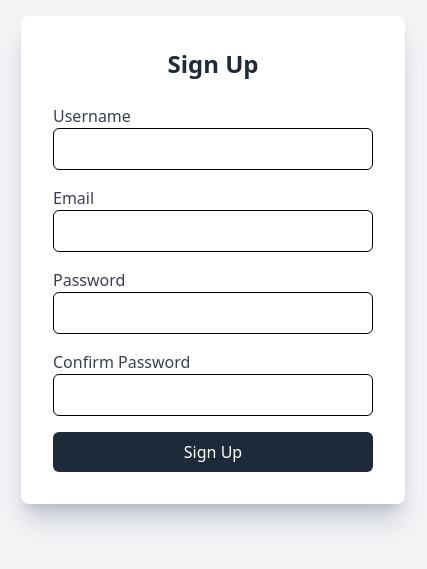
Test: Register component › should show error for unsupported email domain
The image size is (427, 569).
Type "ivan" into the field labelled "Username" at (213, 149), box left=53, top=128, right=373, bottom=170
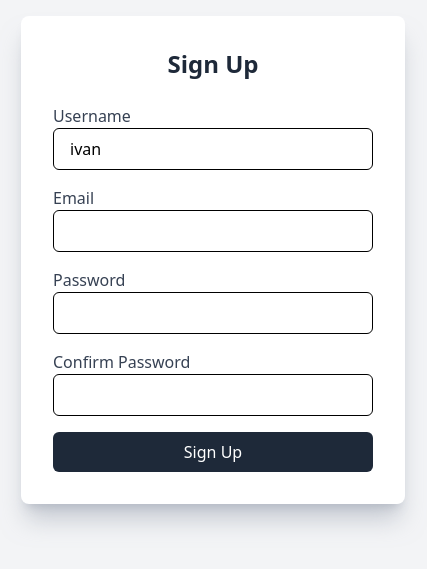
Type "ivan@yahoo.com" into the field labelled "Email" at (213, 231), box left=53, top=210, right=373, bottom=252
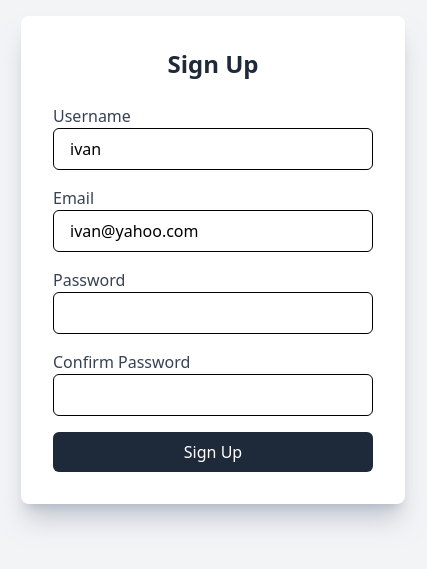
Type "12345" into the password field labelled "Password" at (213, 313), box left=53, top=292, right=373, bottom=334
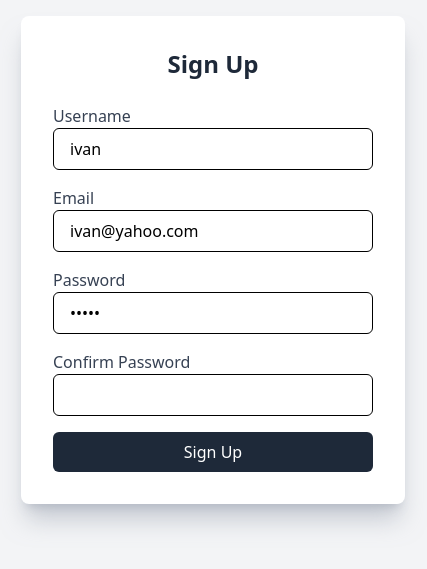
Type "12345" into the password field labelled "Confirm Password" at (213, 395), box left=53, top=374, right=373, bottom=416
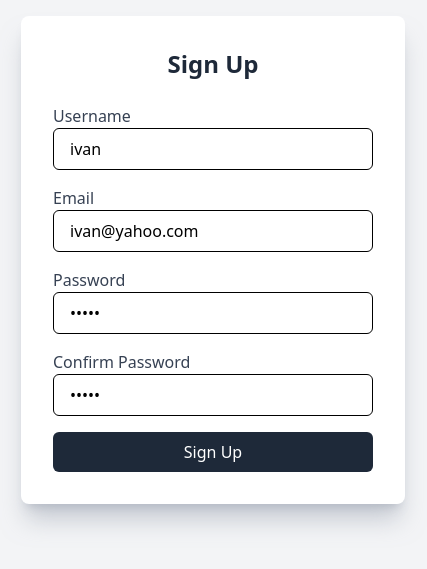
Click the button "Sign Up" at (213, 452), box left=53, top=432, right=373, bottom=472
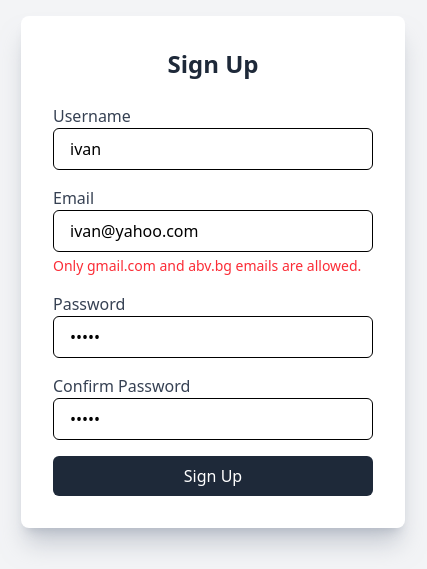
expect the text "Only gmail.com and abv.bg emails are allowed." is shown: met, box left=53, top=256, right=373, bottom=276
